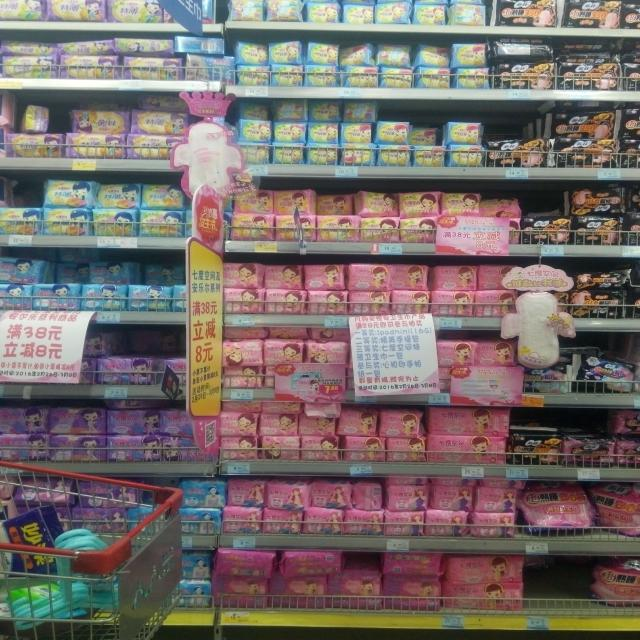unorganised: (215, 547, 345, 574), (336, 407, 427, 442), (590, 481, 640, 535), (489, 33, 555, 61), (70, 105, 130, 135), (417, 42, 453, 89), (353, 189, 402, 218), (389, 263, 437, 292), (90, 261, 135, 287), (220, 340, 263, 367), (17, 104, 52, 135), (135, 92, 189, 112), (306, 342, 347, 368), (234, 37, 268, 66), (316, 189, 353, 215), (304, 41, 340, 67), (339, 40, 374, 66), (164, 435, 199, 461), (268, 38, 302, 64), (479, 195, 521, 216), (353, 484, 383, 513), (142, 264, 184, 284), (54, 262, 90, 284), (410, 122, 444, 145), (238, 101, 273, 121)
